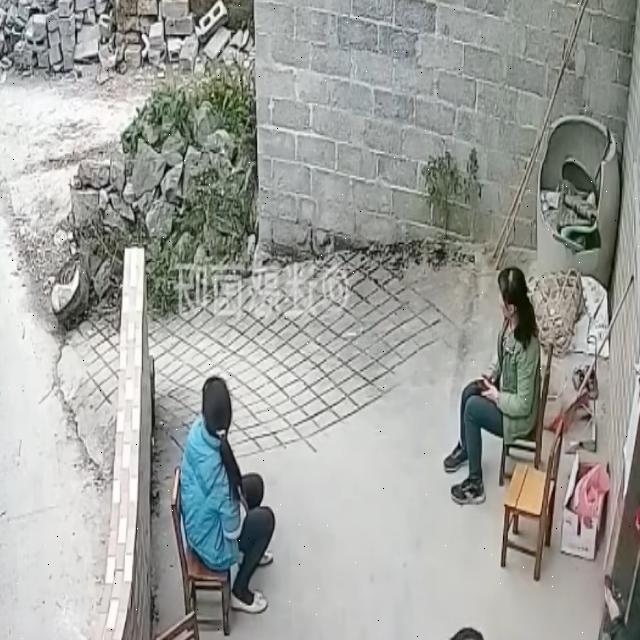sitting: (444, 267, 541, 504), (181, 376, 275, 613)
